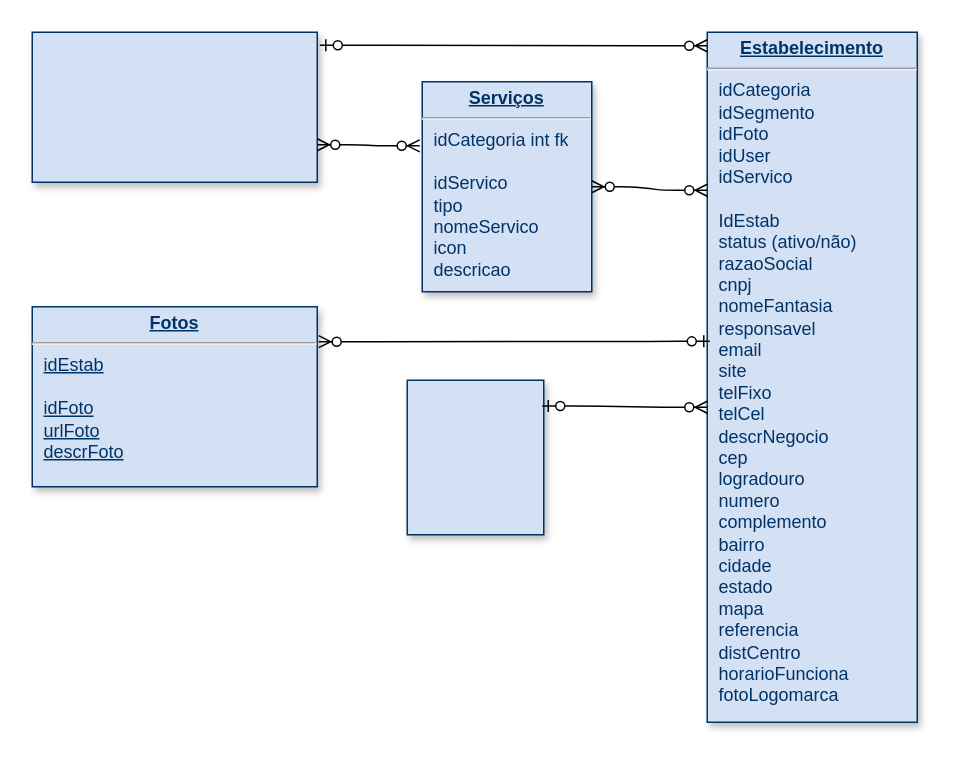
Image size: 953x759. Some labels were removed from this diagram. Here are the shapes that lost their labels. From the top down, the centre of each, then its label:
At point 175,109: "Categoria IdCategoria idSegmento descrCategoria descrSegmento".
At point 476,459: "User (Login) IdUser nome email senha".
